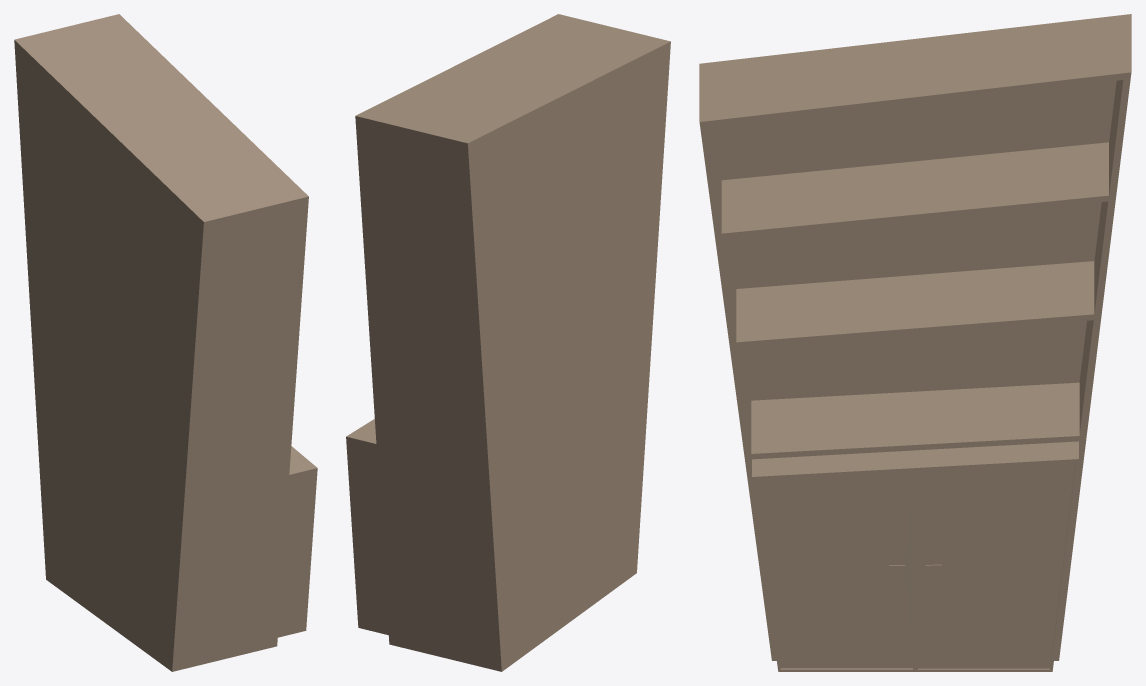
Rendered from MeubleCuisineCartoon.fbx.
3 views of the same model, side by side, from view 1: azimuth 30°, elevation 25°; view 2: azimuth 150°, elevation 25°; view 3: azimuth 270°, elevation 25° (orthographic). The views are drawn at different scales.
Parts seen in each view (by area): view 1: MeubleCuisine; view 2: MeubleCuisine; view 3: MeubleCuisine.
Boxes of the visible parts, <box> form: MeubleCuisine: <box>14,14,317,671</box>; MeubleCuisine: <box>346,14,670,671</box>; MeubleCuisine: <box>699,14,1131,671</box>.
Bounding box in the file's own units: 37.67 × 136 × 90.45.
